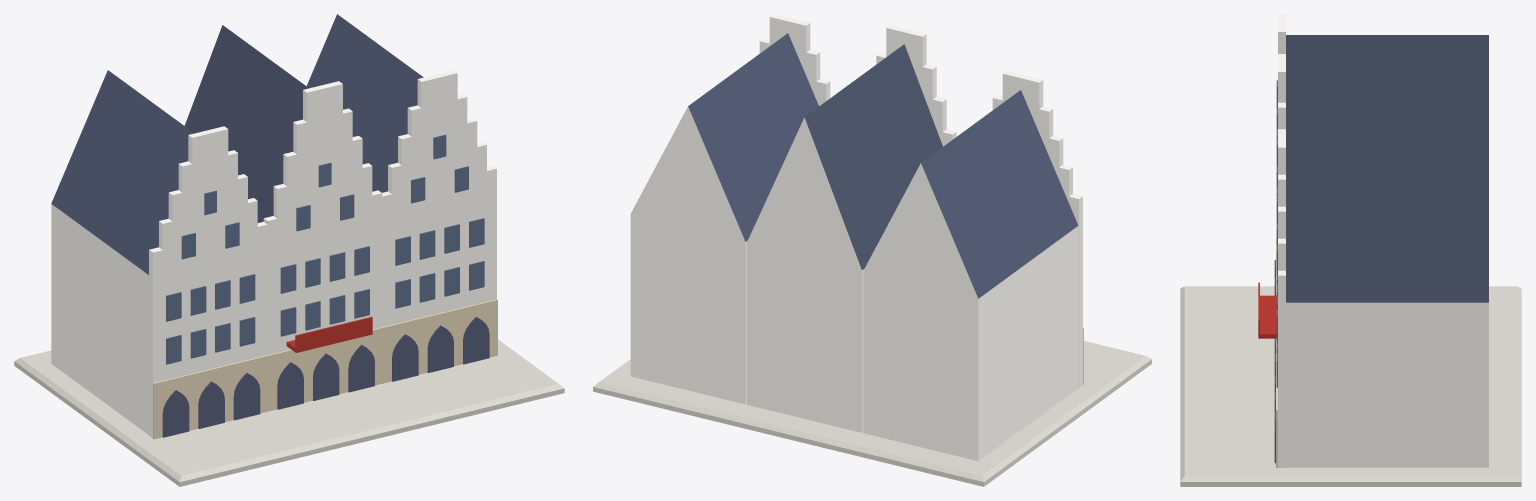
File: frankfurt.glb
3 renders of one model, left to right at view 1: azimuth 30°, elevation 25°; view 2: azimuth 150°, elevation 25°; view 3: azimuth 270°, elevation 25°, orthographic. The views are drawn at different scales.
Visible parts, largest first — view 1: model; view 2: model; view 3: model.
Part boxes in pixels (box(x1,y1,x2,y2)): model: box(14, 14, 564, 486); model: box(593, 14, 1151, 486); model: box(1180, 14, 1521, 486).
Size of the model in its own units: 28.2 by 22.2 by 21.
